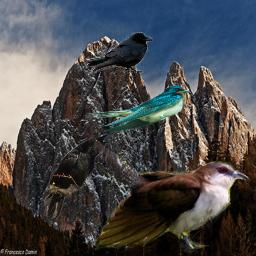Crow: (43, 132, 112, 219), (86, 32, 153, 73)
Cuckoo: (95, 102, 251, 255)
Swallow: (83, 85, 189, 133)
